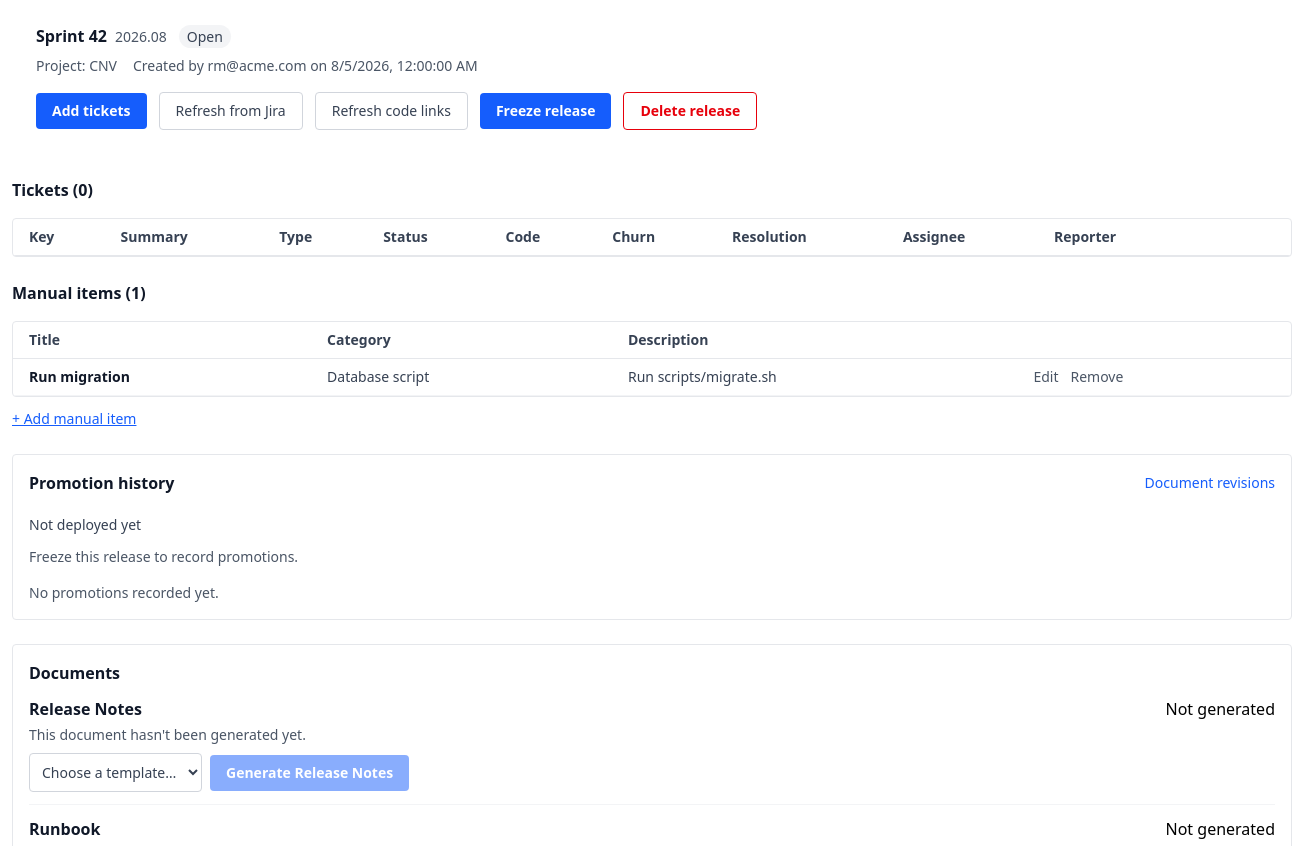
Test case: ReleaseDetailRoute › reopens the manual-item form empty after an edit was abandoned
Step 1. Click the button "Edit" → (1046, 377), box [1033,367,1058,387]
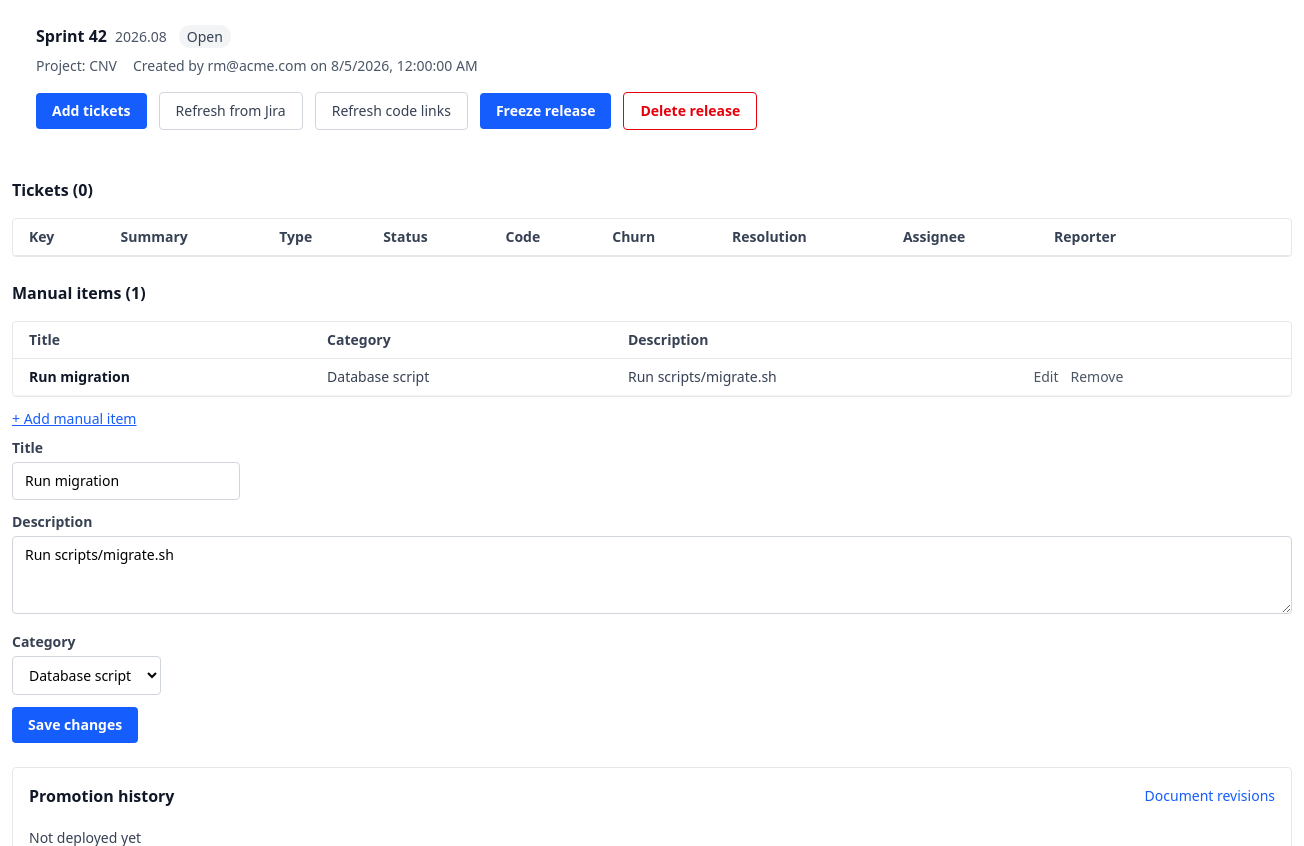
Check: the field with id "manualTitle" holds "Run migration", box [12,462,240,500]
Check: the button "Save changes" is shown, box [12,707,138,743]
Step 2. Click the button "+ Add manual item" → (74, 419), box [12,409,136,429]
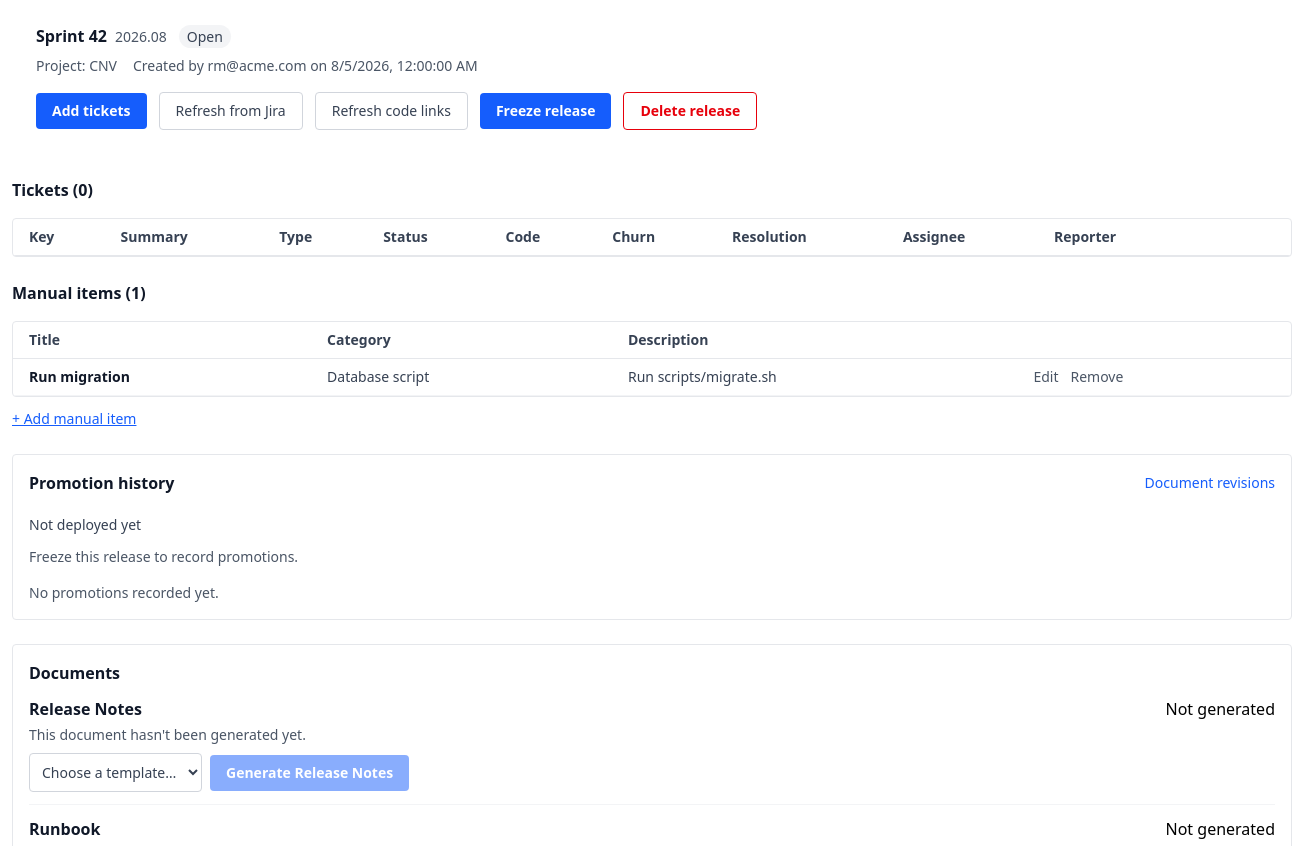
Check: the label with id "manualTitle" is gone
Step 3. Click the button "+ Add manual item" → (74, 419), box [12,409,136,429]
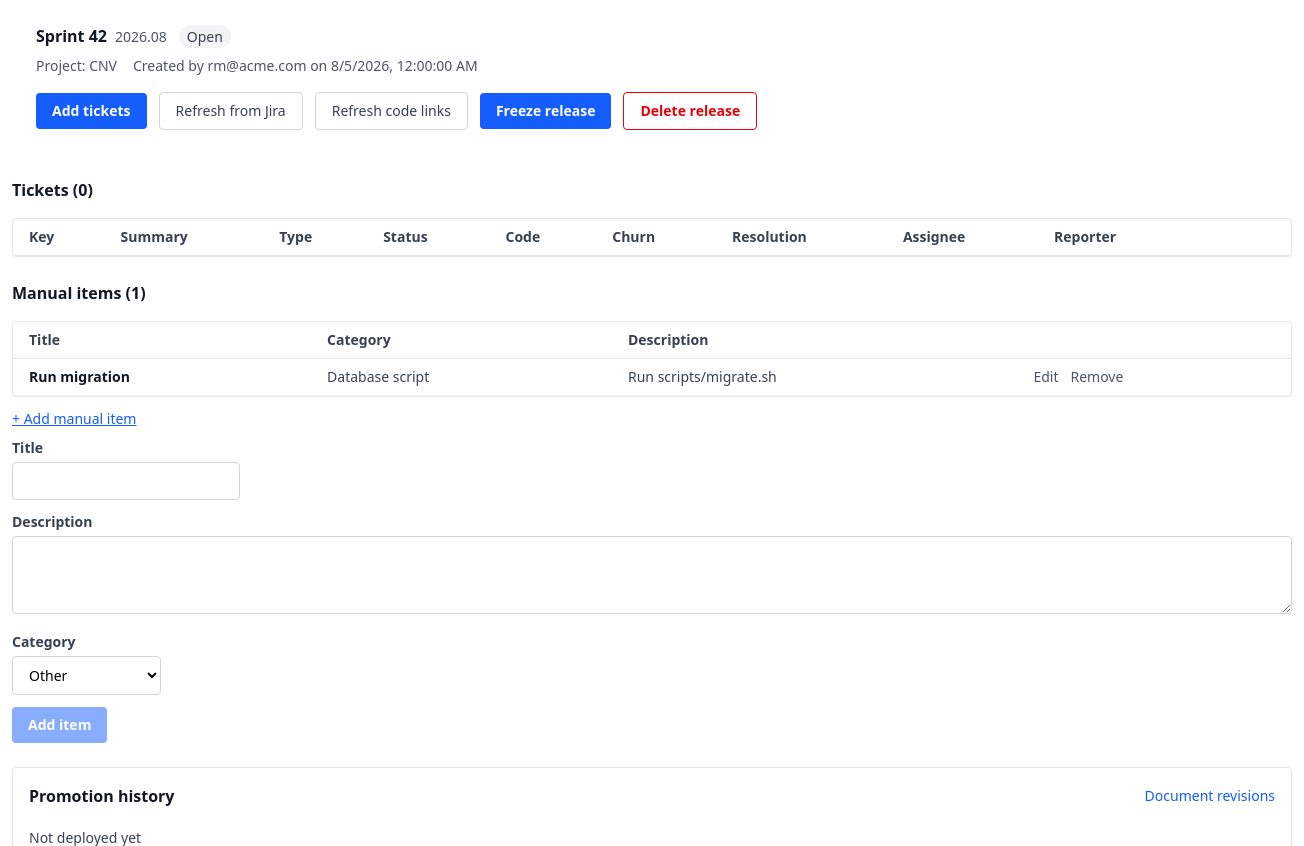
Check: the field with id "manualTitle" is empty, box [12,462,240,500]
Check: the text box with id "manualDescription" is empty, box [12,536,1292,614]
Check: the dropdown with id "manualCategory" shows "Other", box [12,656,161,695]
